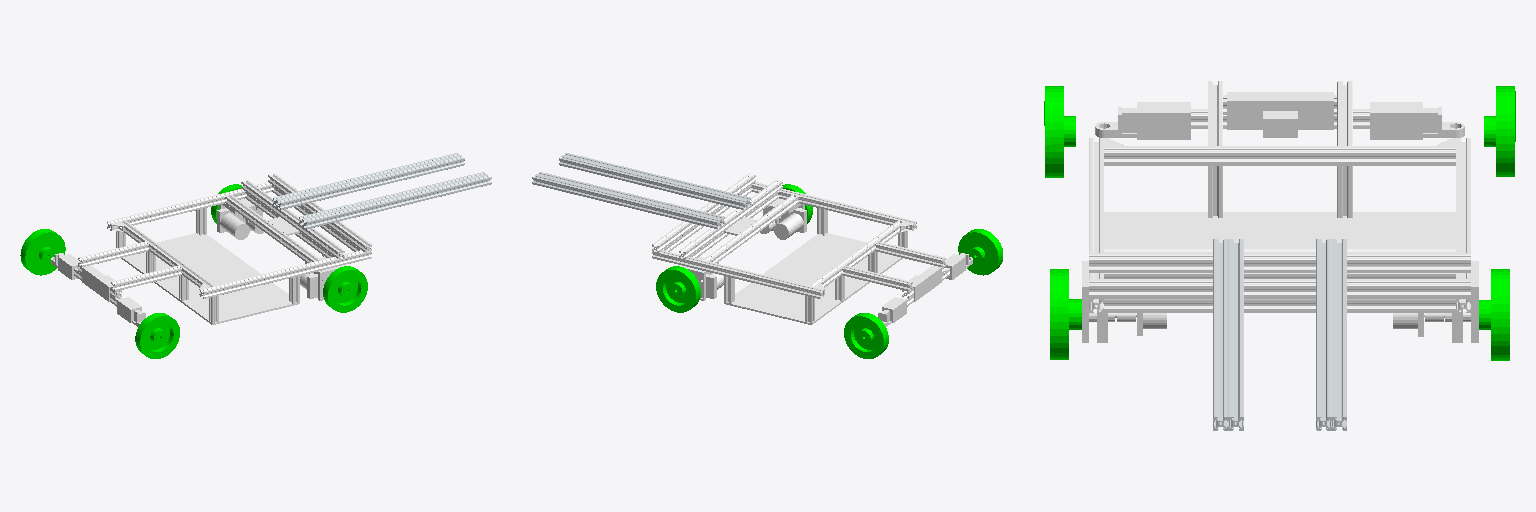
robot.urdf — AAAckermann:
<?xml version="1.0" encoding="utf-8"?>
<!-- This URDF was automatically created by SolidWorks to URDF Exporter! Originally created by [author] ([email redacted]) 
     Commit Version: 1.6.0-4-g7f85cfe  Build Version: 1.6.7995.38578
     For more information, please see http://wiki.ros.org/sw_urdf_exporter -->
<robot
  name="AAAckermann">
  <link
    name="base_link">
    <inertial>
      <origin
        xyz="-0.155033044322973 5.21064123681914E-07 -0.0374219405386322"
        rpy="0 0 0" />
      <mass
        value="4.2064614062057" />
      <inertia
        ixx="0.0413486020291867"
        ixy="-1.82796488685322E-07"
        ixz="3.45960820664178E-07"
        iyy="0.0152273358946837"
        iyz="1.05010040456046E-07"
        izz="0.0556459614992652" />
    </inertial>
    <visual>
      <origin
        xyz="0 0 0"
        rpy="0 0 0" />
      <geometry>
        <mesh
          filename="package://AAAckermann/meshes/base_link.STL" />
      </geometry>
      <material
        name="">
        <color
          rgba="1 1 1 0.4" />
      </material>
    </visual>
    <collision>
      <origin
        xyz="0 0 0"
        rpy="0 0 0" />
      <geometry>
        <mesh
          filename="package://AAAckermann/meshes/base_link.STL" />
      </geometry>
    </collision>
  </link>
  <link
    name="front_left">
    <inertial>
      <origin
        xyz="3.8858E-15 -0.015274 4.6463E-14"
        rpy="0 0 0" />
      <mass
        value="0.24047" />
      <inertia
        ixx="0.00024514"
        ixy="5.4339E-21"
        ixz="-1.6941E-21"
        iyy="0.00045262"
        iyz="6.4709E-20"
        izz="0.00024514" />
    </inertial>
    <visual>
      <origin
        xyz="0 0 0"
        rpy="0 0 0" />
      <geometry>
        <mesh
          filename="package://AAAckermann/meshes/front_left.STL" />
      </geometry>
      <material
        name="">
        <color
          rgba="0 1 0 0.5" />
      </material>
    </visual>
    <collision>
      <origin
        xyz="0 0 0"
        rpy="0 0 0" />
      <geometry>
        <mesh
          filename="package://AAAckermann/meshes/front_left.STL" />
      </geometry>
    </collision>
  </link>
  <joint
    name="front_left_joint"
    type="continuous">
    <origin
      xyz="0.0190000000000679 0.301000000000045 -0.0695000000000887"
      rpy="3.14159265358979 0.0849179307157281 3.14159265358979" />
    <parent
      link="base_link" />
    <child
      link="front_left" />
    <axis
      xyz="0 1 0" />
  </joint>
  <link
    name="front_right">
    <inertial>
      <origin
        xyz="-2.9643E-14 0.025726 3.5749E-14"
        rpy="0 0 0" />
      <mass
        value="0.24047" />
      <inertia
        ixx="0.00024514"
        ixy="5.2554E-21"
        ixz="0"
        iyy="0.00045262"
        iyz="4.3994E-20"
        izz="0.00024514" />
    </inertial>
    <visual>
      <origin
        xyz="0 0 0"
        rpy="0 0 0" />
      <geometry>
        <mesh
          filename="package://AAAckermann/meshes/front_right.STL" />
      </geometry>
      <material
        name="">
        <color
          rgba="0 1 0 0.5" />
      </material>
    </visual>
    <collision>
      <origin
        xyz="0 0 0"
        rpy="0 0 0" />
      <geometry>
        <mesh
          filename="package://AAAckermann/meshes/front_right.STL" />
      </geometry>
    </collision>
  </link>
  <joint
    name="front_right_joint"
    type="continuous">
    <origin
      xyz="0.0190000000000679 -0.259999999999977 -0.0695000000000887"
      rpy="3.14159265358979 -0.692237011731428 0" />
    <parent
      link="base_link" />
    <child
      link="front_right" />
    <axis
      xyz="0 1 0" />
  </joint>
  <link
    name="left_steering">
    <inertial>
      <origin
        xyz="0.012512933493309 -0.0163421015504649 -0.0213045365279689"
        rpy="0 0 0" />
      <mass
        value="0.0396441172797539" />
      <inertia
        ixx="1.40345098300458E-05"
        ixy="-1.52725955805096E-06"
        ixz="-7.1949991184784E-06"
        iyy="2.900901803087E-05"
        iyz="2.01422351026883E-06"
        izz="3.05054640970382E-05" />
    </inertial>
    <visual>
      <origin
        xyz="0 0 0"
        rpy="0 0 0" />
      <geometry>
        <mesh
          filename="package://AAAckermann/meshes/left_steering.STL" />
      </geometry>
      <material
        name="">
        <color
          rgba="0.792156862745098 0.819607843137255 0.933333333333333 1" />
      </material>
    </visual>
    <collision>
      <origin
        xyz="0 0 0"
        rpy="0 0 0" />
      <geometry>
        <mesh
          filename="package://AAAckermann/meshes/left_steering.STL" />
      </geometry>
    </collision>
  </link>
  <joint
    name="left_steering_joint"
    type="continuous">
    <origin
      xyz="-0.544750000000063 0.229999999999977 -0.0837500000002837"
      rpy="3.14159265358979 0 -0.00209254658538632" />
    <parent
      link="base_link" />
    <child
      link="left_steering" />
    <axis
      xyz="0 0 1" />
  </joint>
  <link
    name="rear_left">
    <inertial>
      <origin
        xyz="-1.5192E-06 0.025619 0.006692"
        rpy="0 0 0" />
      <mass
        value="0.24047" />
      <inertia
        ixx="0.00024514"
        ixy="-4.9967E-09"
        ixz="-5.3615E-10"
        iyy="0.00045026"
        iyz="2.201E-05"
        izz="0.0002475" />
    </inertial>
    <visual>
      <origin
        xyz="0 0 0"
        rpy="0 0 0" />
      <geometry>
        <mesh
          filename="package://AAAckermann/meshes/rear_left.STL" />
      </geometry>
      <material
        name="">
        <color
          rgba="0 1 0 0.5" />
      </material>
    </visual>
    <collision>
      <origin
        xyz="0 0 0"
        rpy="0 0 0" />
      <geometry>
        <mesh
          filename="package://AAAckermann/meshes/rear_left.STL" />
      </geometry>
    </collision>
  </link>
  <joint
    name="rear_left_joint"
    type="continuous">
    <origin
      xyz="0 -0.0367488381424265 -0.0159999999999999"
      rpy="3.14159265358979 1.57056930363849 0" />
    <parent
      link="left_steering" />
    <child
      link="rear_left" />
    <axis
      xyz="0 1 0" />
  </joint>
  <link
    name="right_steering">
    <inertial>
      <origin
        xyz="-0.0141851959168551 -0.014911611158559 -0.0213045365279664"
        rpy="0 0 0" />
      <mass
        value="0.039644117279754" />
      <inertia
        ixx="1.45321058215473E-05"
        ixy="3.08590475566129E-06"
        ixz="7.36894346824914E-06"
        iyy="2.85153884323417E-05"
        iyz="1.2337472935684E-06"
        izz="3.05094304900102E-05" />
    </inertial>
    <visual>
      <origin
        xyz="0 0 0"
        rpy="0 0 0" />
      <geometry>
        <mesh
          filename="package://AAAckermann/meshes/right_steering.STL" />
      </geometry>
      <material
        name="">
        <color
          rgba="0.792156862745098 0.819607843137255 0.933333333333333 1" />
      </material>
    </visual>
    <collision>
      <origin
        xyz="0 0 0"
        rpy="0 0 0" />
      <geometry>
        <mesh
          filename="package://AAAckermann/meshes/right_steering.STL" />
      </geometry>
    </collision>
  </link>
  <joint
    name="right_steering_joint"
    type="continuous">
    <origin
      xyz="-0.544750000000063 -0.230000000000023 -0.0837500000002836"
      rpy="3.14159265358979 0 -3.13242627228221" />
    <parent
      link="base_link" />
    <child
      link="right_steering" />
    <axis
      xyz="0 0 1" />
  </joint>
  <link
    name="rear_right">
    <inertial>
      <origin
        xyz="1.415E-10 0.025722 1.2793E-08"
        rpy="0 0 0" />
      <mass
        value="0.24047" />
      <inertia
        ixx="0.00024514"
        ixy="4.6696E-13"
        ixz="9.5503E-20"
        iyy="0.00045262"
        iyz="4.2319E-11"
        izz="0.00024514" />
    </inertial>
    <visual>
      <origin
        xyz="0 0 0"
        rpy="0 0 0" />
      <geometry>
        <mesh
          filename="package://AAAckermann/meshes/rear_right.STL" />
      </geometry>
      <material
        name="">
        <color
          rgba="0 1 0 0.5" />
      </material>
    </visual>
    <collision>
      <origin
        xyz="0 0 0"
        rpy="0 0 0" />
      <geometry>
        <mesh
          filename="package://AAAckermann/meshes/rear_right.STL" />
      </geometry>
    </collision>
  </link>
  <joint
    name="rear_right_joint"
    type="continuous">
    <origin
      xyz="0 -0.0370034448281129 -0.0159999999999995"
      rpy="3.14159265358979 -1.55976234848309 0" />
    <parent
      link="right_steering" />
    <child
      link="rear_right" />
    <axis
      xyz="0 1 0" />
  </joint>
  <link
    name="folk_right">
    <inertial>
      <origin
        xyz="2.00693118415856 1.38000039371724 0.275"
        rpy="0 0 0" />
      <mass
        value="0.524544939385195" />
      <inertia
        ixx="0.0132439651239288"
        ixy="-2.33963645354686E-16"
        ixz="1.28434201717295E-21"
        iyy="0.0132439651530273"
        iyz="-9.26736582761506E-23"
        izz="4.2122916290778E-05" />
    </inertial>
    <visual>
      <origin
        xyz="0 0 0"
        rpy="0 0 0" />
      <geometry>
        <mesh
          filename="package://AAAckermann/meshes/folk_right.STL" />
      </geometry>
      <material
        name="">
        <color
          rgba="0.898039215686275 0.917647058823529 0.929411764705882 1" />
      </material>
    </visual>
    <collision>
      <origin
        xyz="0 0 0"
        rpy="0 0 0" />
      <geometry>
        <mesh
          filename="package://AAAckermann/meshes/folk_right.STL" />
      </geometry>
    </collision>
  </link>
  <joint
    name="folk_right_fixed"
    type="fixed">
    <origin
      xyz="0.569999999999977 1.93943121112487 -1.35000039371702"
      rpy="1.5707963267949 0 -1.5707963267949" />
    <parent
      link="base_link" />
    <child
      link="folk_right" />
    <axis
      xyz="0 0 0" />
  </joint>
  <link
    name="folk_left">
    <inertial>
      <origin
        xyz="2.00693118415856 1.38000039371724 0.275"
        rpy="0 0 0" />
      <mass
        value="0.524544939385195" />
      <inertia
        ixx="0.0132439651239288"
        ixy="-2.33963423979683E-16"
        ixz="1.28430282170194E-21"
        iyy="0.0132439651530273"
        iyz="-9.26736584311901E-23"
        izz="4.2122916290778E-05" />
    </inertial>
    <visual>
      <origin
        xyz="0 0 0"
        rpy="0 0 0" />
      <geometry>
        <mesh
          filename="package://AAAckermann/meshes/folk_left.STL" />
      </geometry>
      <material
        name="">
        <color
          rgba="0.898039215686275 0.917647058823529 0.929411764705882 1" />
      </material>
    </visual>
    <collision>
      <origin
        xyz="0 0 0"
        rpy="0 0 0" />
      <geometry>
        <mesh
          filename="package://AAAckermann/meshes/folk_left.STL" />
      </geometry>
    </collision>
  </link>
  <joint
    name="folk_left_fixed"
    type="fixed">
    <origin
      xyz="0.569999999999977 2.07443121112492 -1.35000039371702"
      rpy="1.5707963267949 0 -1.5707963267949" />
    <parent
      link="base_link" />
    <child
      link="folk_left" />
    <axis
      xyz="0 0 0" />
  </joint>
</robot>

--- Render facts (derived) ---
3 views of the same robot in one strip: view 1: azimuth 30°, elevation 25°; view 2: azimuth 150°, elevation 25°; view 3: azimuth 270°, elevation 25° (orthographic).
Model AAAckermann with 9 links and 8 joints (6 continuous, 2 fixed), rooted at base_link, posed every joint at zero.
Visible links, largest first — view 1: base_link, folk_right, folk_left, front_right, rear_right, rear_left; view 2: base_link, folk_left, folk_right, front_left, rear_left, rear_right; view 3: base_link, folk_right, folk_left, rear_left, rear_right, front_right, front_left.
Link boxes in pixels (left/top/right/bottom): base_link: left=51, top=173, right=371, bottom=326; folk_right: left=299, top=172, right=491, bottom=228; folk_left: left=273, top=153, right=464, bottom=209; front_right: left=323, top=266, right=367, bottom=312; rear_right: left=135, top=313, right=179, bottom=358; rear_left: left=20, top=229, right=65, bottom=275; base_link: left=652, top=173, right=972, bottom=326; folk_left: left=532, top=172, right=724, bottom=228; folk_right: left=559, top=153, right=750, bottom=209; front_left: left=656, top=266, right=700, bottom=312; rear_left: left=844, top=313, right=888, bottom=358; rear_right: left=958, top=229, right=1002, bottom=275; base_link: left=1082, top=81, right=1478, bottom=342; folk_right: left=1213, top=239, right=1243, bottom=430; folk_left: left=1316, top=239, right=1346, bottom=430; rear_left: left=1484, top=86, right=1515, bottom=176; rear_right: left=1044, top=86, right=1075, bottom=177; front_right: left=1050, top=269, right=1081, bottom=359; front_left: left=1479, top=269, right=1509, bottom=360.
Size in the robot's own frame: 1.17 by 0.6167 by 0.1695 metres.
7 mesh visuals loaded from 9 distinct referenced files (7 binary STL); not drawn: 2 (reference not matched to a file when rendering).
